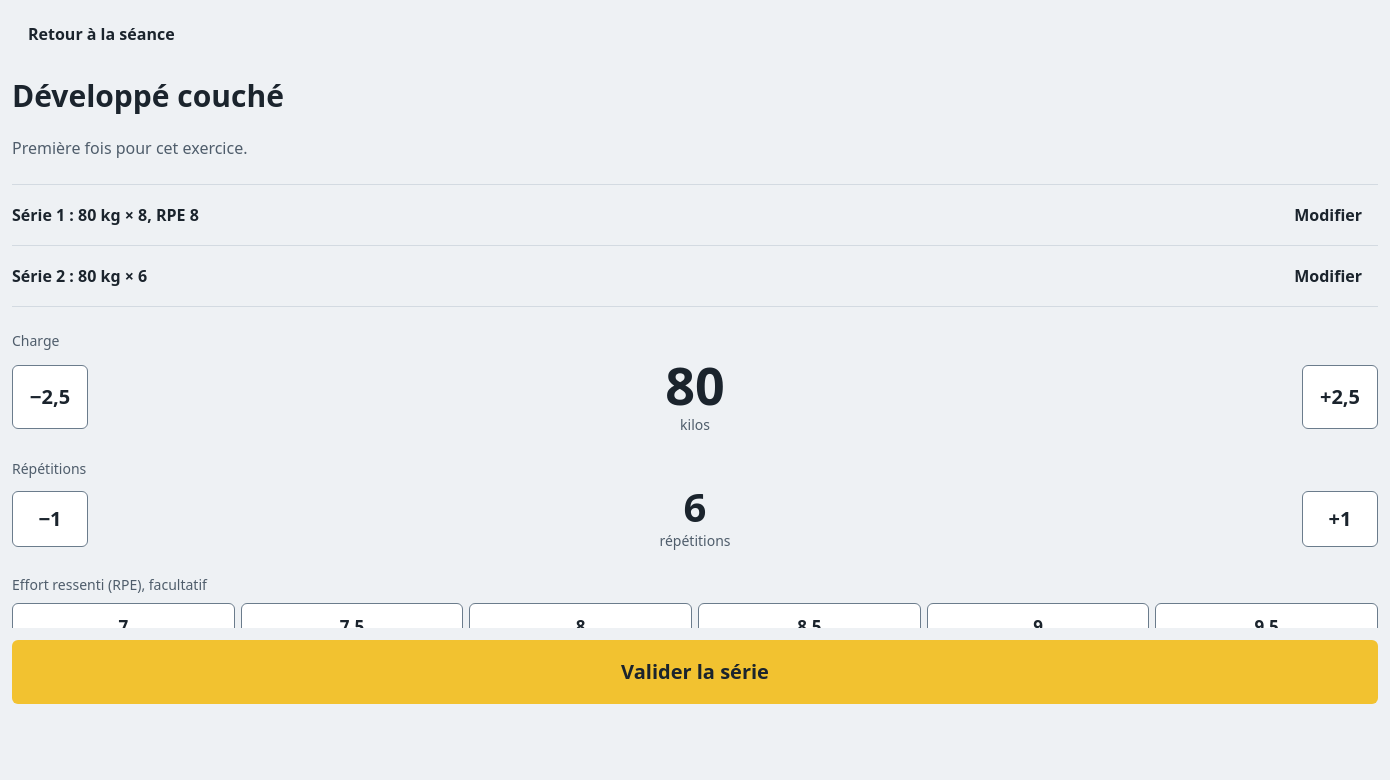
Scenario: SetEntry › modifie une série en gardant son identifiant, sa place et son heure
Click the button with aria-label "Modifier la série 1": (1328, 214) [1278, 192, 1378, 236]
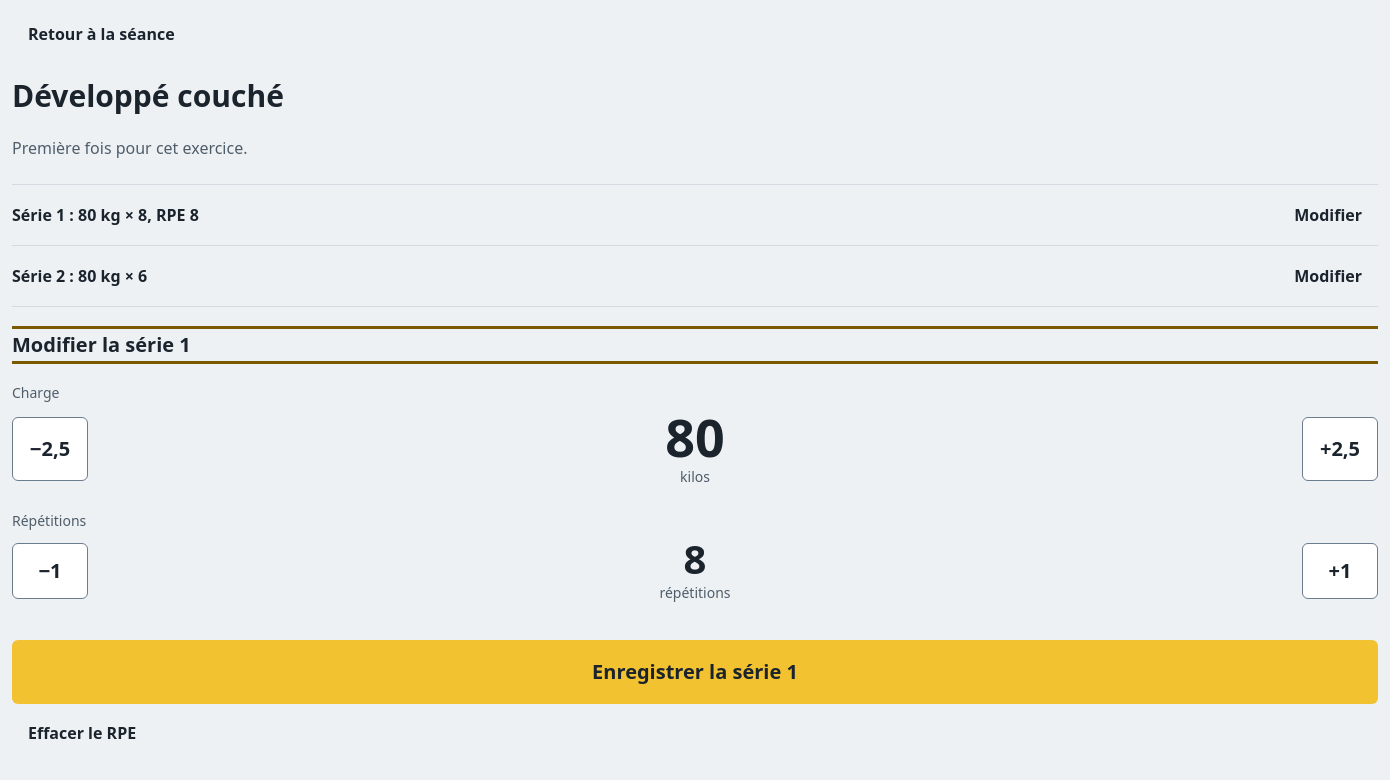
Now the element showing "8 répétitions" is shown, box [660, 530, 731, 602]
Now the radio button labelled "8" is checked, box [469, 654, 692, 702]
Click the button named "+1 répétition": (1340, 570) [1302, 542, 1378, 598]
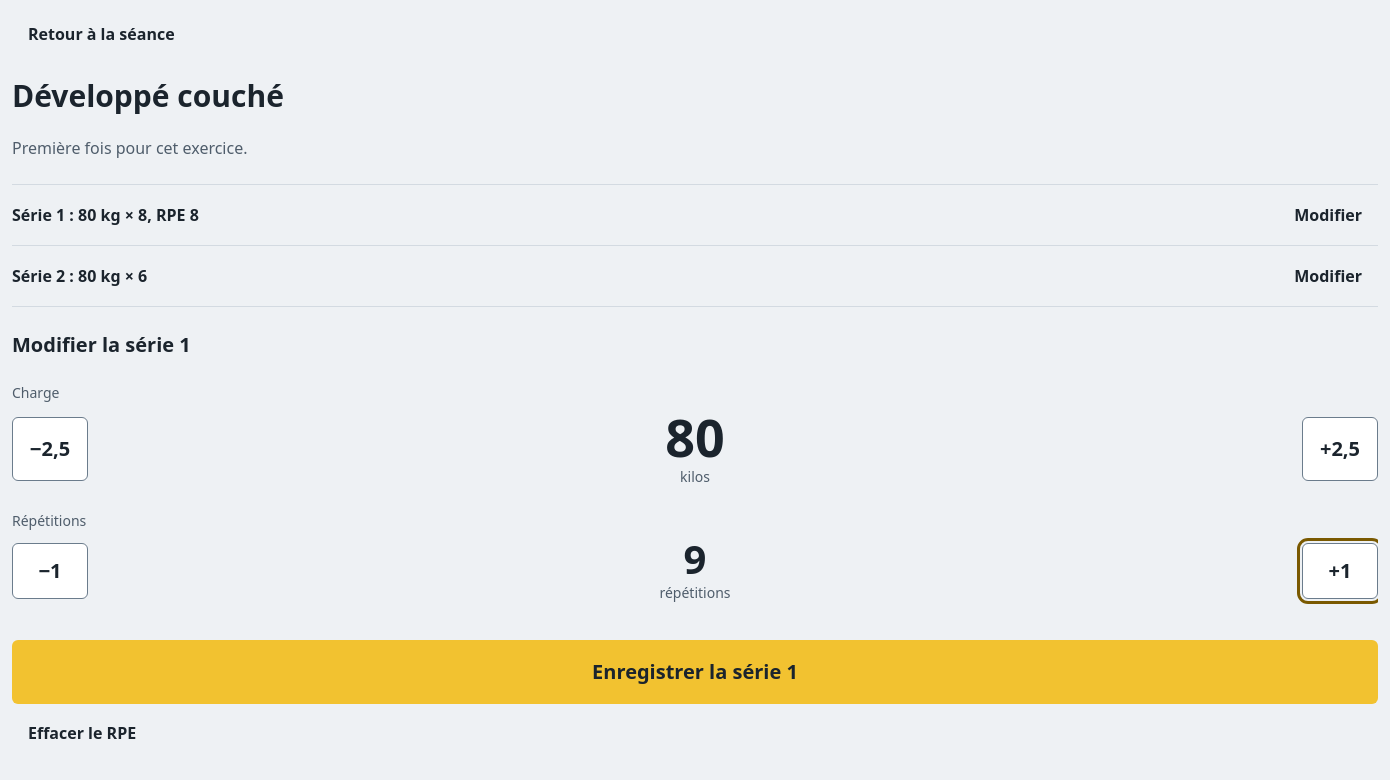
Click the button "Enregistrer la série 1": (695, 672) [12, 640, 1378, 704]
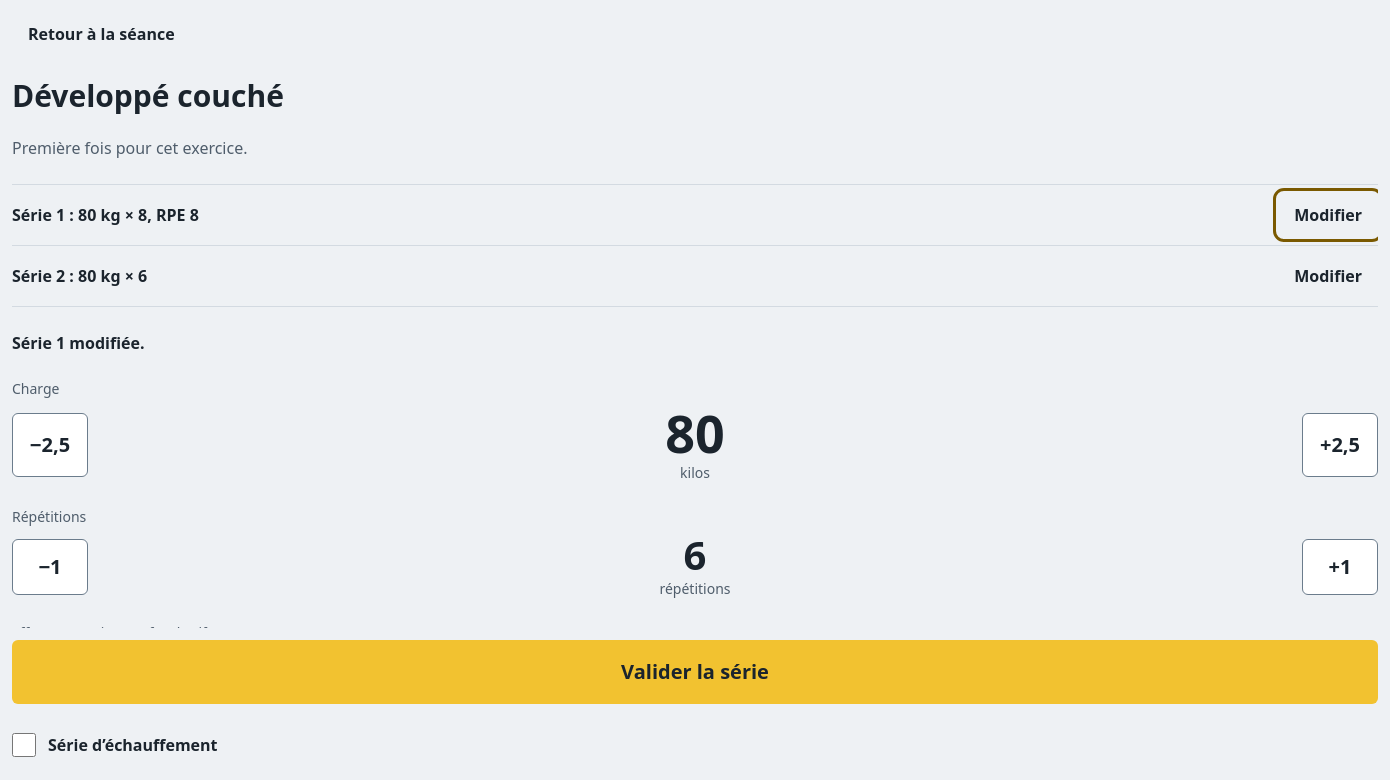
Now the text "Série 1 modifiée." is shown, box [12, 332, 144, 354]
Now the button "Valider la série" is shown, box [12, 640, 1378, 704]
